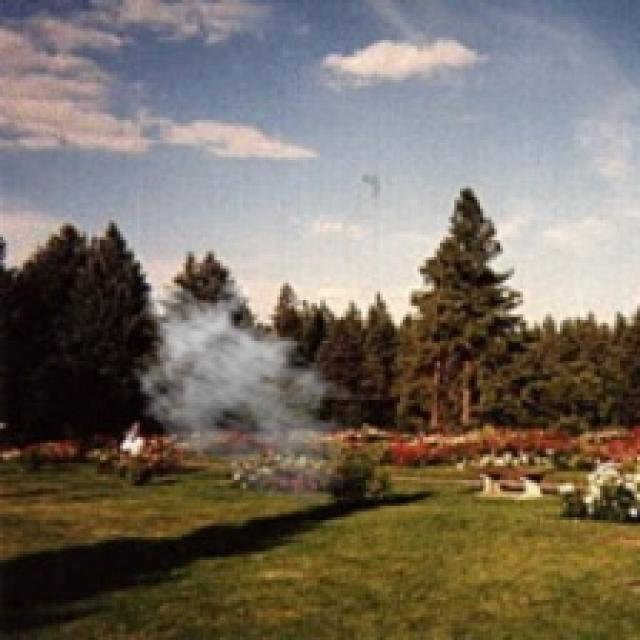smoke: (128, 280, 368, 506)
